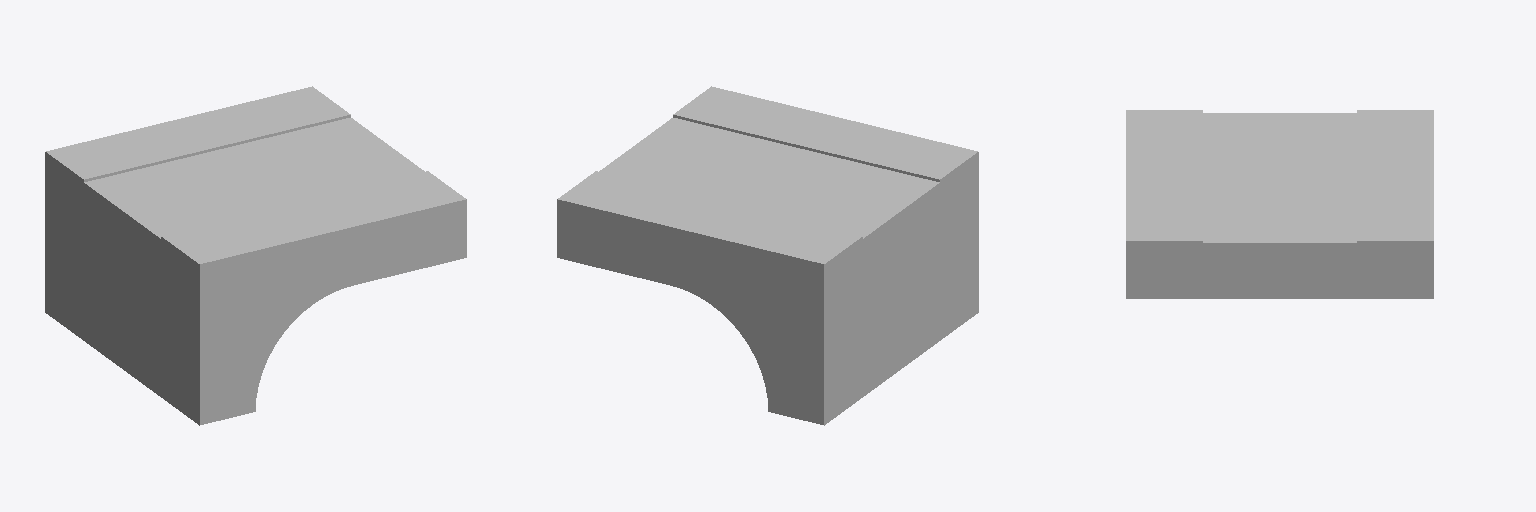
The model's file is tile261.obj.
3 views of the same model, side by side, from view 1: azimuth 30°, elevation 25°; view 2: azimuth 150°, elevation 25°; view 3: azimuth 270°, elevation 25° (orthographic).
Parts seen in each view (by area): view 1: tile261; view 2: tile261; view 3: tile261.
Part boxes in pixels (x1,y1,x2,y2): tile261: (45,86,466,425); tile261: (557,86,978,425); tile261: (1126,110,1433,298).
Bounding box in the file's own units: 1 × 0.5767 × 1.